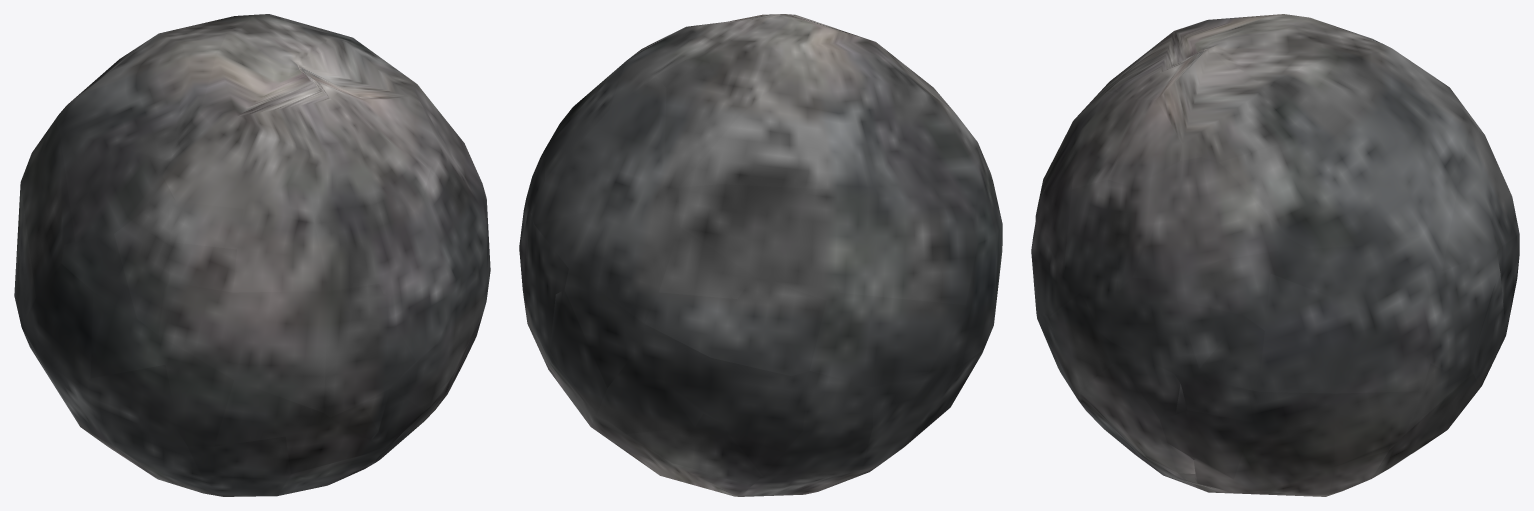
File: planet_5-far.glb
3 renders of one model, left to right at view 1: azimuth 30°, elevation 25°; view 2: azimuth 150°, elevation 25°; view 3: azimuth 270°, elevation 25°, orthographic.
Parts seen in each view (by area): view 1: Mesh_0.001; view 2: Mesh_0.001; view 3: Mesh_0.001.
Part boxes in pixels (x1=…): Mesh_0.001: x1=14, y1=14, x2=490, y2=496; Mesh_0.001: x1=519, y1=14, x2=1002, y2=496; Mesh_0.001: x1=1031, y1=14, x2=1519, y2=496.
Size of the model in its own units: 1.89 by 1.9 by 1.89.
Materials: 1 (1 with a texture image).
